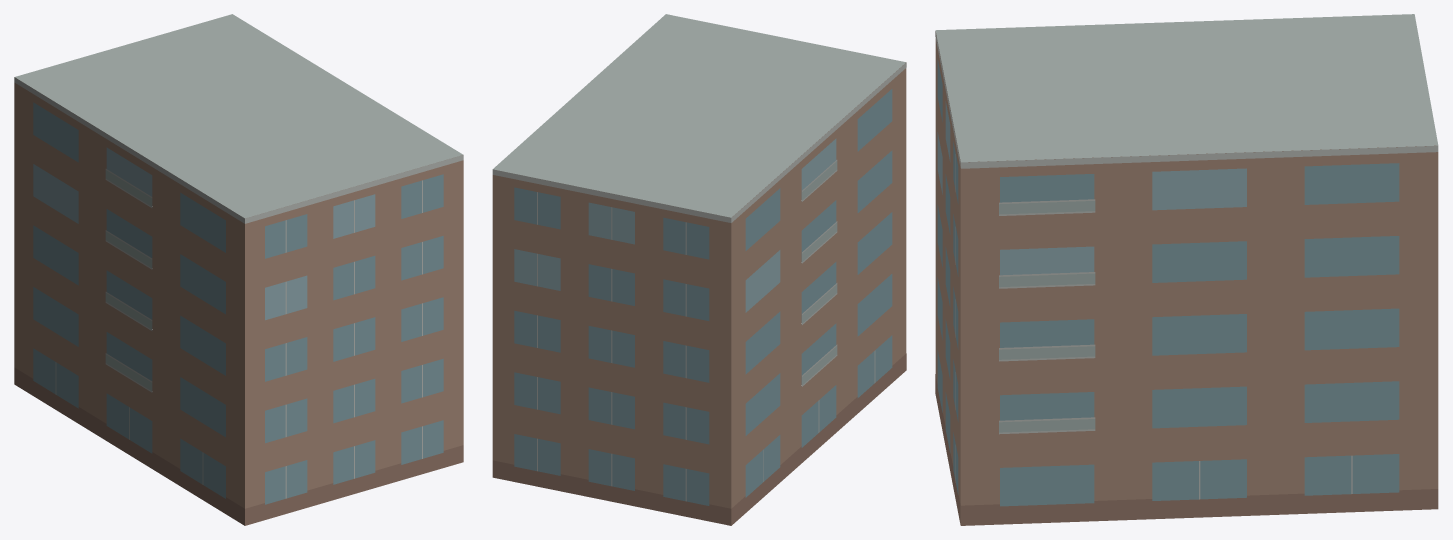
File: survey-upis-32666994.glb
3 views of the same model, side by side, from view 1: azimuth 30°, elevation 25°; view 2: azimuth 150°, elevation 25°; view 3: azimuth 270°, elevation 25° (orthographic). The views are drawn at different scales.
Visible parts, largest first — view 1: survey-upis-32666994.tmp; view 2: survey-upis-32666994.tmp; view 3: survey-upis-32666994.tmp.
Boxes of the visible parts, x1,y1,x2,y2 form: survey-upis-32666994.tmp: (14, 14, 463, 525); survey-upis-32666994.tmp: (492, 14, 906, 525); survey-upis-32666994.tmp: (935, 14, 1438, 525).
Bounding box in the file's own units: 12.09 × 13.8 × 17.31.
